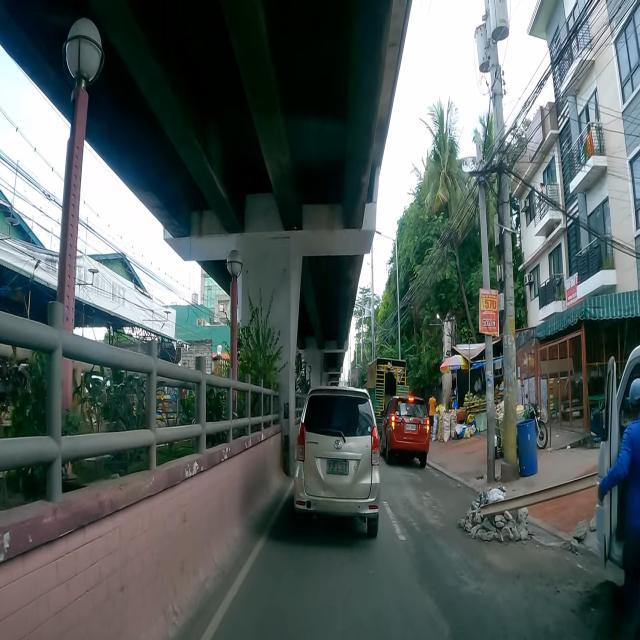car: (296, 386, 381, 538), (380, 394, 430, 468)
truck: (588, 344, 640, 582), (364, 358, 409, 434)
